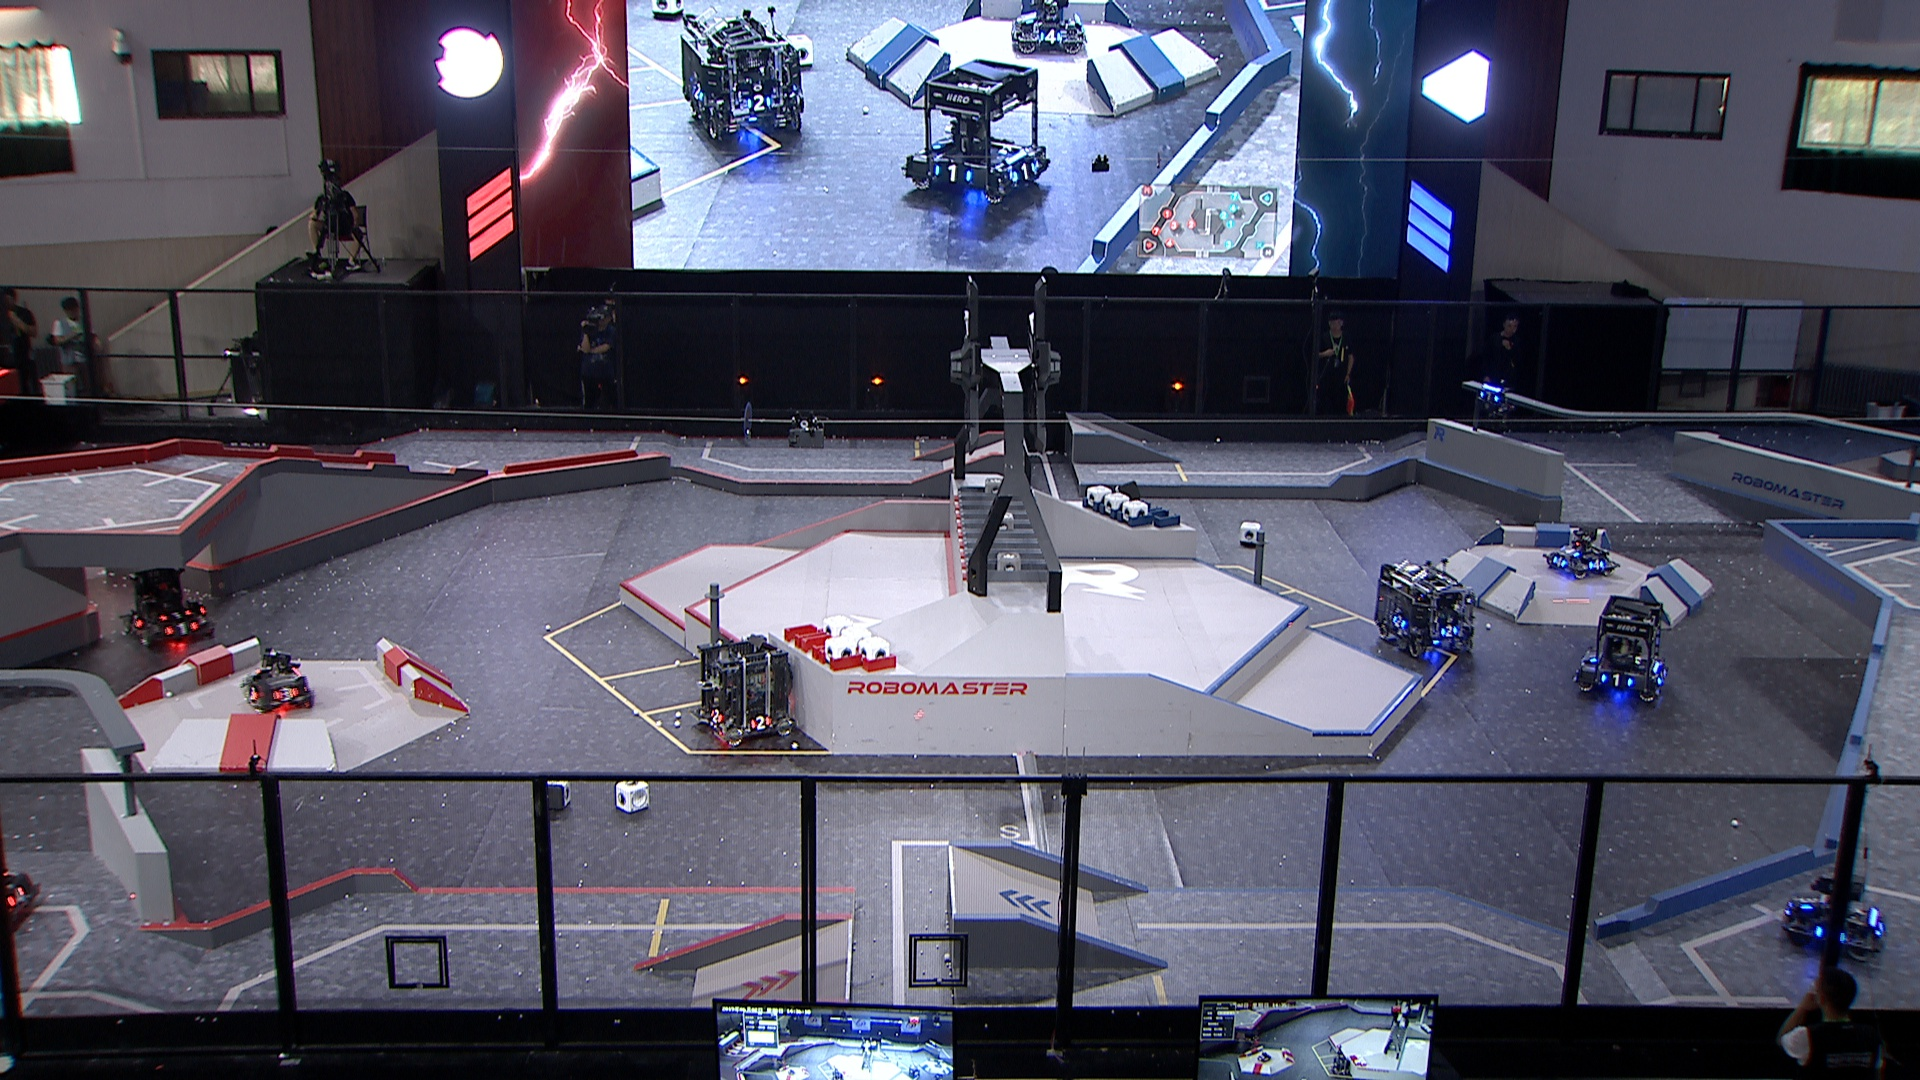armor: (164, 617, 196, 637), (7, 880, 26, 907), (1602, 671, 1631, 688), (276, 683, 299, 703), (161, 609, 191, 624), (127, 612, 144, 632), (750, 713, 770, 731), (1797, 895, 1820, 910), (1389, 613, 1406, 629), (1480, 389, 1498, 404), (1437, 622, 1457, 636), (1560, 543, 1578, 556), (709, 707, 723, 725), (1586, 647, 1600, 665), (1655, 670, 1669, 684), (247, 684, 258, 702), (1589, 559, 1604, 568), (1552, 556, 1567, 566)
car: (690, 636, 796, 746), (1367, 556, 1472, 661), (1576, 597, 1669, 707), (1784, 865, 1887, 960), (117, 560, 214, 647), (243, 646, 315, 712), (1543, 520, 1618, 580)
ignore: (895, 54, 1054, 193), (674, 7, 803, 140), (1328, 1050, 1356, 1079), (1253, 1048, 1273, 1065), (903, 1063, 923, 1077), (827, 1067, 843, 1080)
watcher: (1472, 367, 1513, 433)
